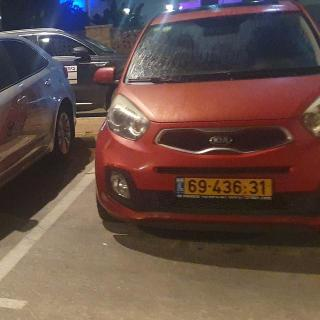LicensePlate: (187, 179, 273, 196)
